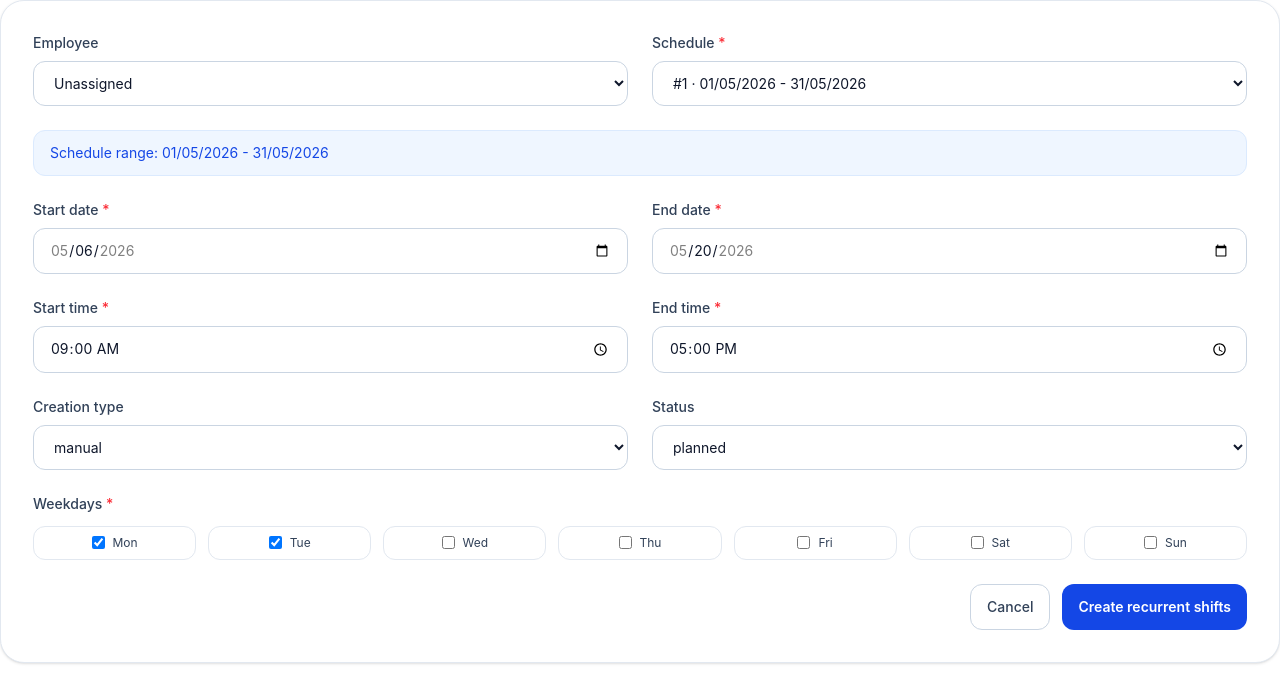
Test case: RecurrentShiftForm › loads active contract and applies weekdays and fixed schedule when employee changes
Select "Marta Lopez" in the dropdown with id "employee-id" at {"x": 330, "y": 84}, box [33,61,628,106]
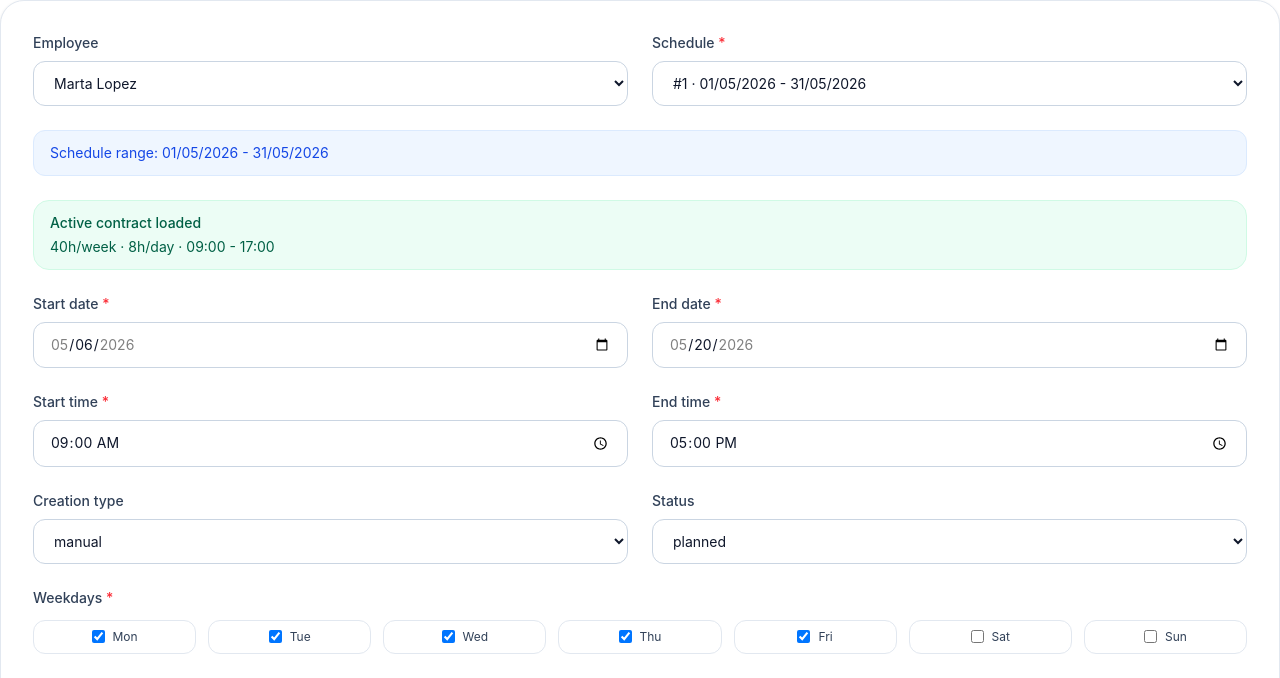
Expected: the time field with id "start-time" holds "09:00", [33,420,628,467]
Result: the text "Active contract loaded" is shown at [50,214,201,231]
